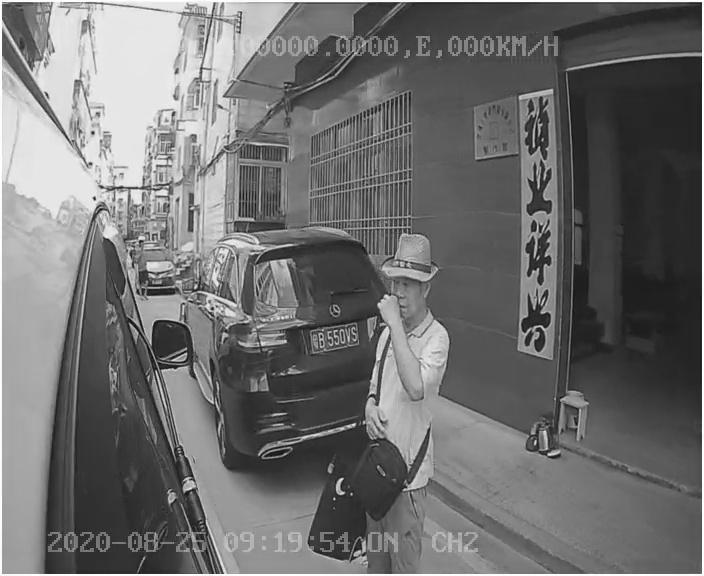person: (341, 229, 453, 531)
